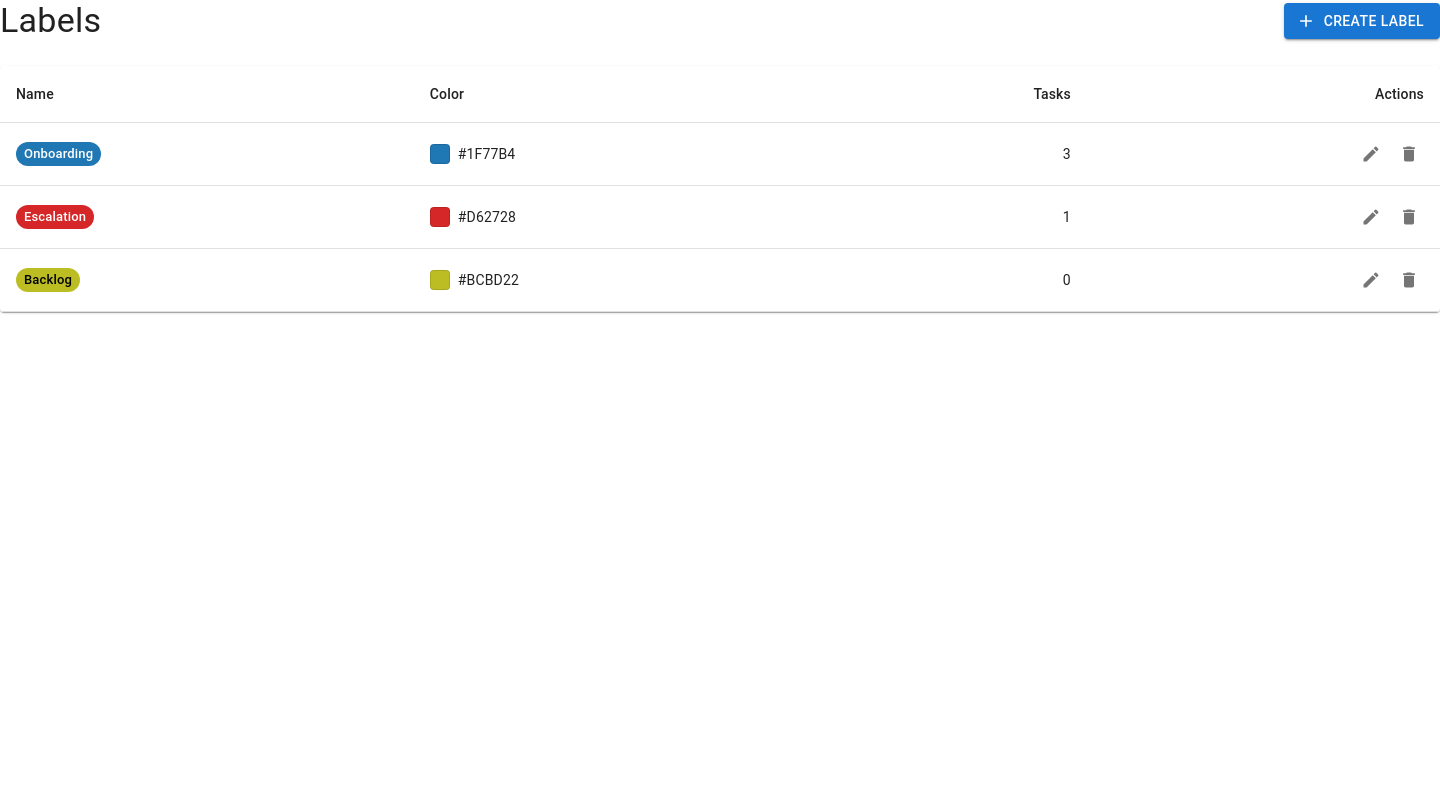
Test case: LabelList › uses the singular form when a label is attached to one task
Expected: the text "Escalation" is shown, [24,209,86,224]
Click the button named "Delete label" in the row of "Escalation" at [1409, 217], box [1394,202,1424,232]
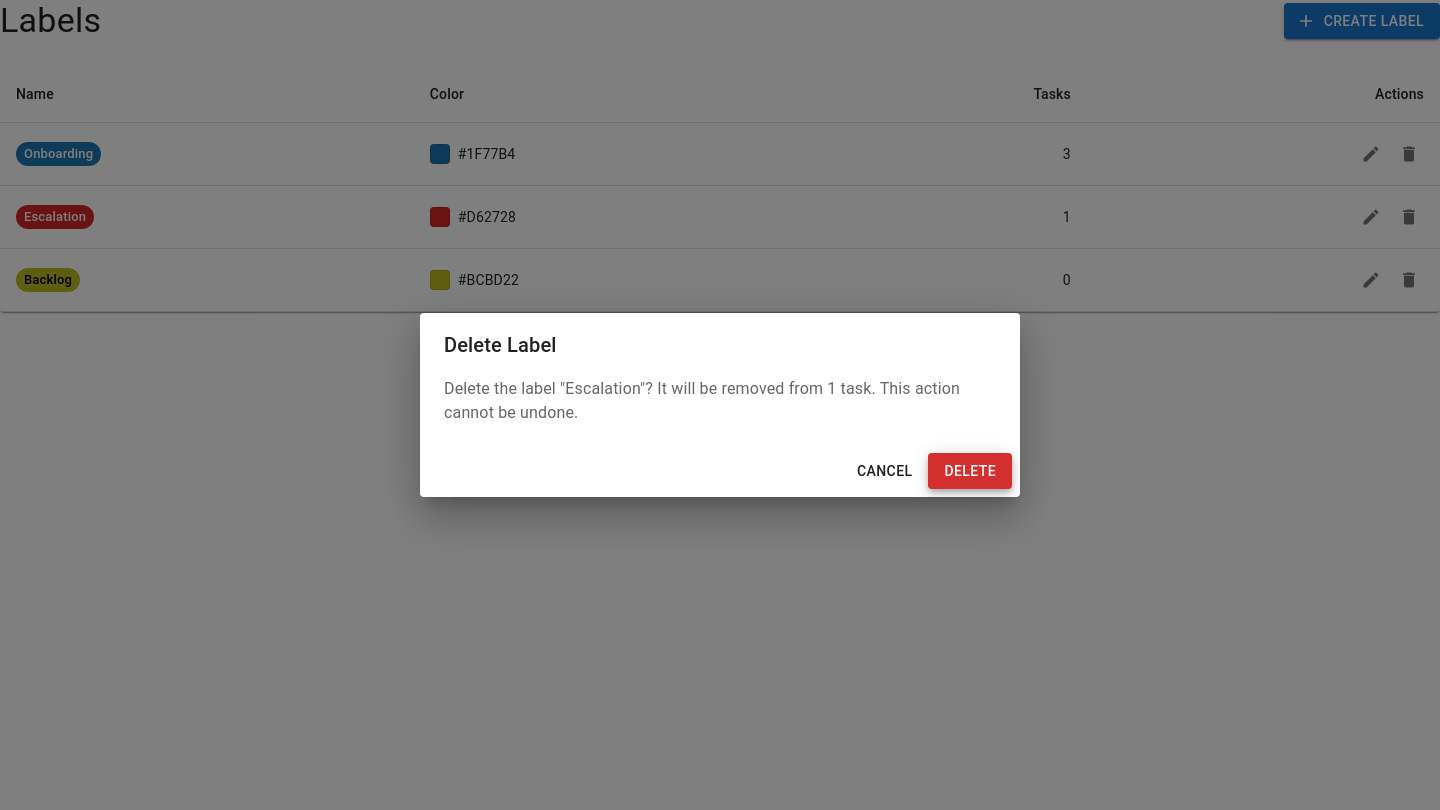
Expected: the text "It will be removed from 1 task." is shown, [444,379,960,422]
